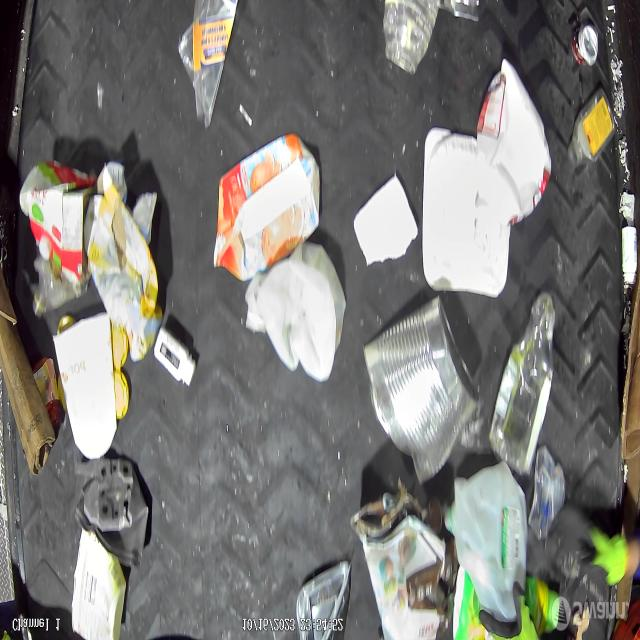can: (365, 294, 475, 485), (572, 23, 600, 67)
milk_jug: (246, 244, 344, 380), (450, 462, 528, 618), (477, 61, 553, 220)
non_white_jug: (213, 134, 322, 282), (84, 162, 163, 364), (18, 158, 94, 284), (453, 578, 560, 640)
plastic_bottle: (492, 295, 555, 474), (32, 254, 92, 316)
